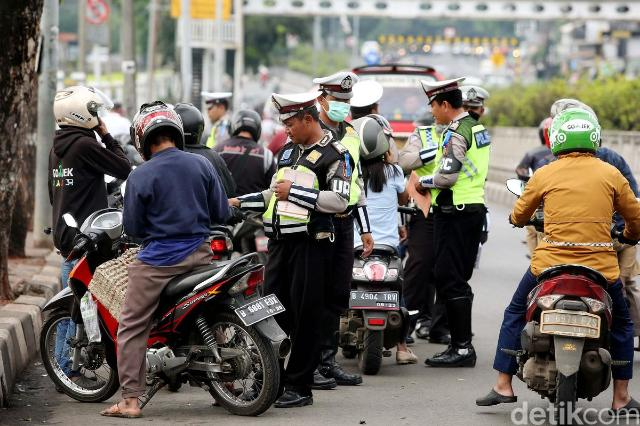helm: (129, 101, 188, 162), (53, 85, 115, 135), (548, 111, 602, 162), (347, 117, 398, 168), (540, 98, 600, 140), (174, 99, 207, 151), (227, 109, 266, 144)
motor: (38, 210, 295, 418), (505, 214, 640, 426), (326, 200, 421, 377)
